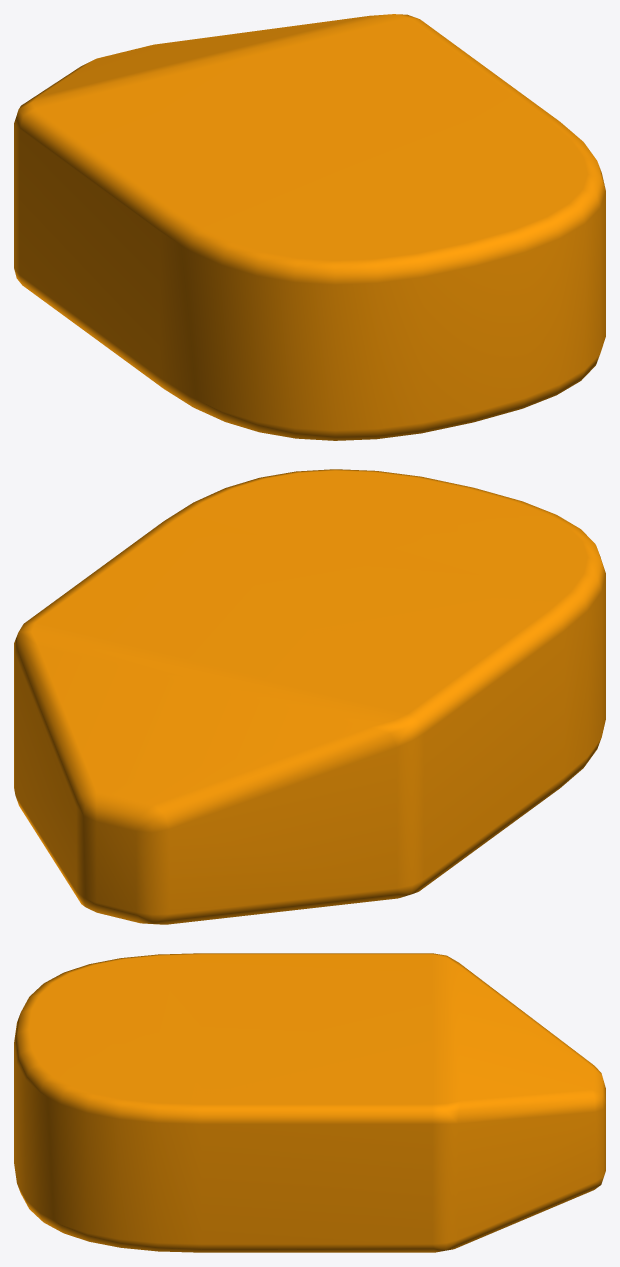
3 renders of one model, top to bottom at view 1: azimuth 30°, elevation 25°; view 2: azimuth 150°, elevation 25°; view 3: azimuth 270°, elevation 25°, orthographic. The views are drawn at different scales.
Parts seen in each view (by area): view 1: Up; view 2: Up; view 3: Up.
Part boxes in pixels (x1,y1,x2,y2): Up: (14, 14, 605, 440); Up: (14, 469, 605, 924); Up: (14, 953, 605, 1252).
Size of the model in its own units: 0.8291 by 1.28 by 0.3502.
